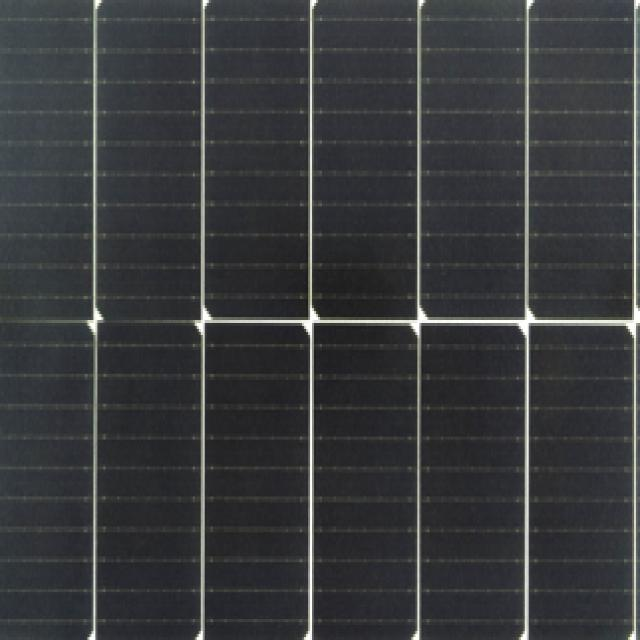CELL SHORT: (0, 303, 95, 338), (101, 304, 195, 336)
